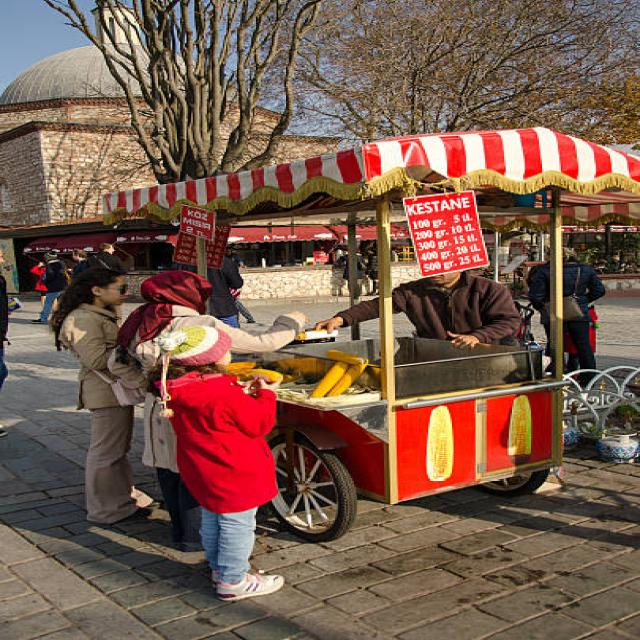Emperan: (49, 114, 640, 608)
